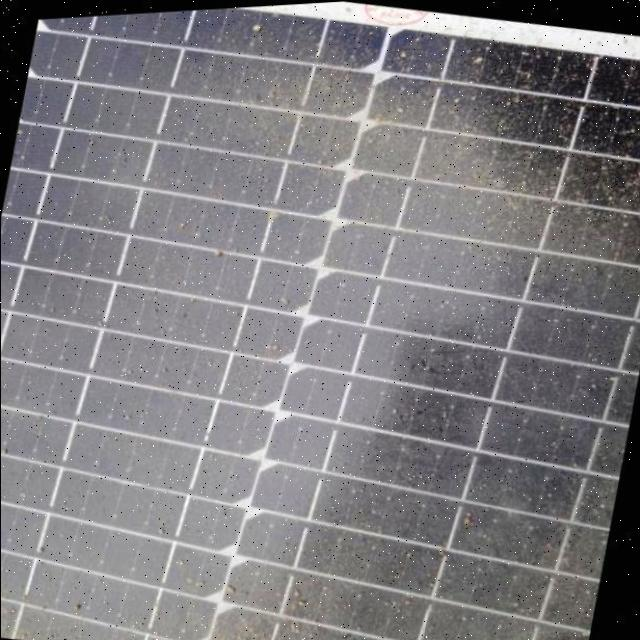Surface Contaminant: (0, 1, 640, 640)
